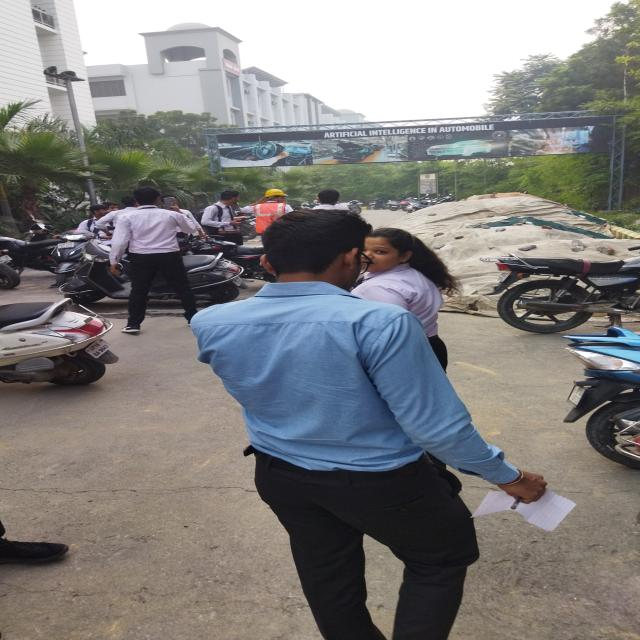safe: (257, 180, 295, 233)
unsafe: (197, 205, 559, 640), (106, 183, 202, 342), (104, 177, 104, 184)
